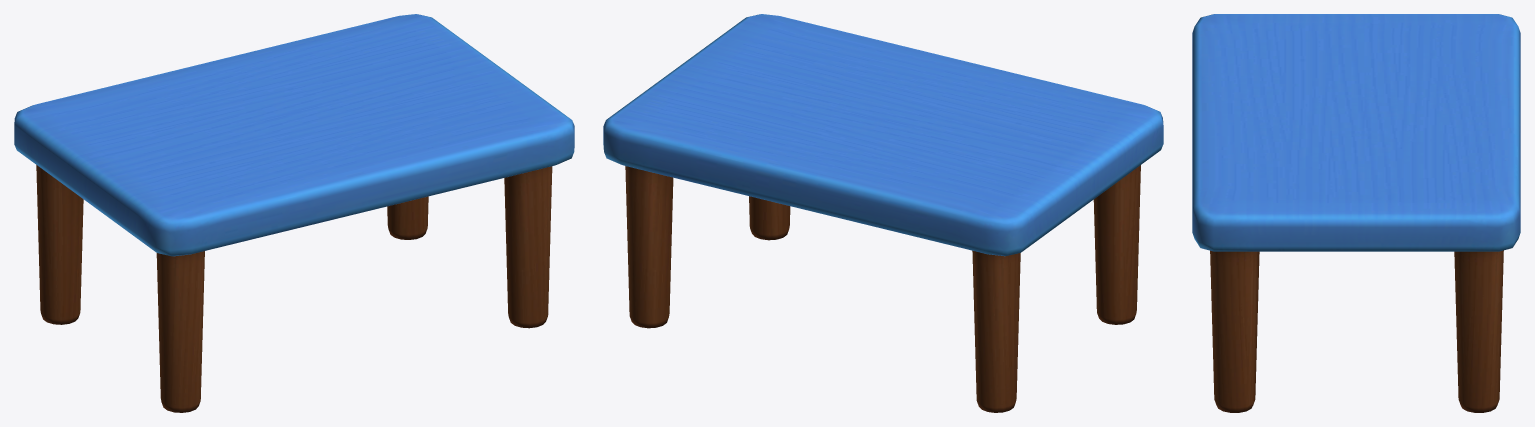
File: 0-desk_blue.fbx
3 views of the same model, side by side, from view 1: azimuth 30°, elevation 25°; view 2: azimuth 150°, elevation 25°; view 3: azimuth 270°, elevation 25° (orthographic).
Parts seen in each view (by area): view 1: 0-desk_blue; view 2: 0-desk_blue; view 3: 0-desk_blue.
Boxes of the visible parts, x1,y1,x2,y2 form: 0-desk_blue: [14, 14, 574, 412]; 0-desk_blue: [603, 14, 1163, 412]; 0-desk_blue: [1192, 14, 1520, 412].
Bounding box in the file's own units: 97.95 × 45.58 × 65.36.
